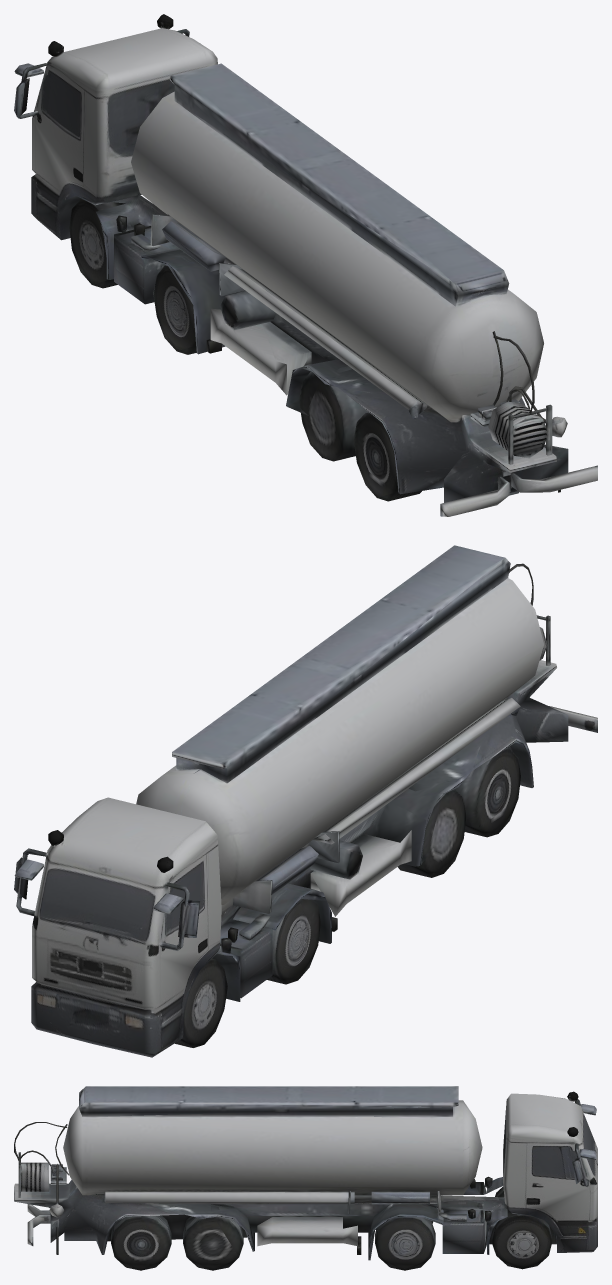
File: fuel-bowser.glb
3 renders of one model, top to bottom at view 1: azimuth 30°, elevation 25°; view 2: azimuth 150°, elevation 25°; view 3: azimuth 270°, elevation 25°, orthographic. The views are drawn at different scales.
Parts seen in each view (by area): view 1: tripo_node_2e414c91-7e89-489e-a6c3-2d6942a27014; view 2: tripo_node_2e414c91-7e89-489e-a6c3-2d6942a27014; view 3: tripo_node_2e414c91-7e89-489e-a6c3-2d6942a27014.
Part boxes in pixels (<box>): tripo_node_2e414c91-7e89-489e-a6c3-2d6942a27014: <box>14,14,597,516</box>; tripo_node_2e414c91-7e89-489e-a6c3-2d6942a27014: <box>14,545,597,1057</box>; tripo_node_2e414c91-7e89-489e-a6c3-2d6942a27014: <box>14,1086,597,1270</box>.
Size of the model in its own units: 0.2363 by 0.2949 by 0.998.
Materials: 1 (1 with a texture image).
